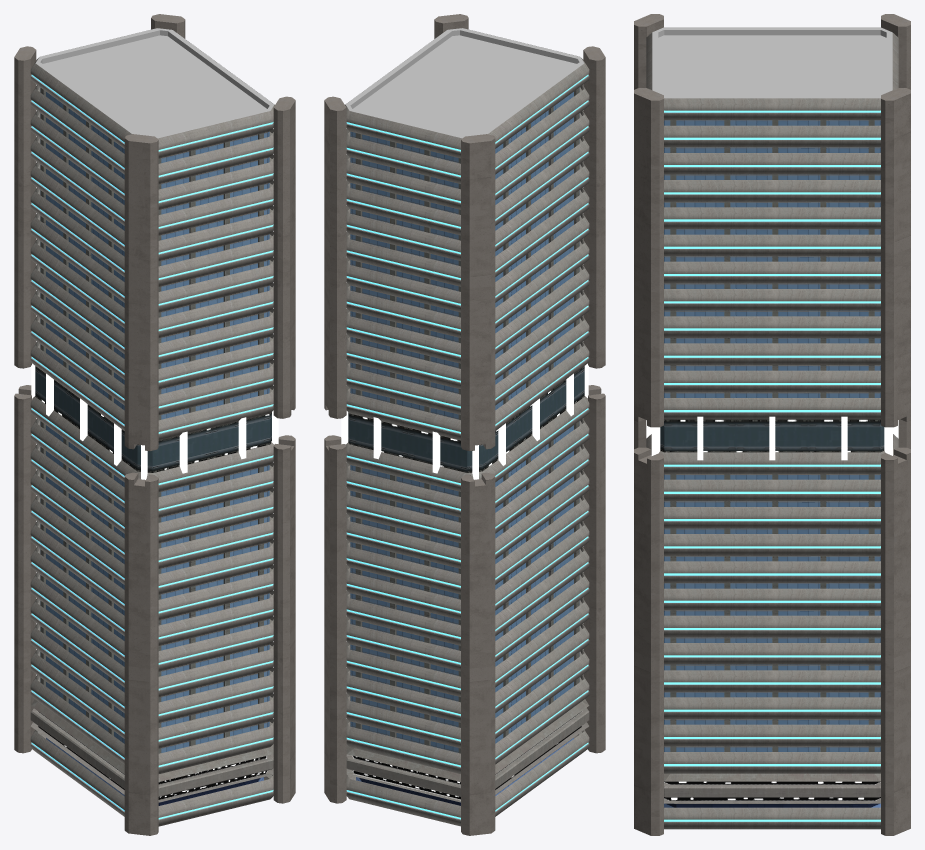
The model's file is ScifyBuilding.fbx.
3 views of the same model, side by side, from view 1: azimuth 30°, elevation 25°; view 2: azimuth 150°, elevation 25°; view 3: azimuth 270°, elevation 25° (orthographic). The views are drawn at different scales.
Visible parts, largest first — view 1: polySurface128, polySurface224, polySurface230, polySurface225, polySurface232, polySurface222, polySurface231, polySurface221, pCube56, pCube59, pCube44, pCube53 (+49 smaller); view 2: polySurface128, polySurface222, polySurface231, polySurface223, polySurface233, polySurface224, polySurface230, polySurface221, pCube44, pCube47, pCube59, pCube62 (+49 smaller); view 3: polySurface128, polySurface225, polySurface223, polySurface232, polySurface233, polySurface221, pCube67, pCube54, polySurface3, pCube44, pCube45, pCube48 (+48 smaller).
Part boxes in pixels (bbox=[...]): polySurface128: bbox=[35, 28, 274, 138]; polySurface224: bbox=[124, 472, 158, 835]; polySurface230: bbox=[124, 134, 158, 451]; polySurface225: bbox=[273, 435, 295, 803]; polySurface232: bbox=[273, 96, 295, 418]; polySurface222: bbox=[14, 385, 36, 753]; polySurface231: bbox=[14, 46, 36, 368]; polySurface221: bbox=[35, 366, 271, 472]; pCube56: bbox=[30, 290, 273, 389]; pCube59: bbox=[30, 213, 273, 312]; pCube44: bbox=[30, 649, 273, 748]; pCube53: bbox=[30, 418, 273, 517]; polySurface128: bbox=[345, 28, 584, 138]; polySurface222: bbox=[461, 472, 495, 835]; polySurface231: bbox=[461, 134, 495, 451]; polySurface223: bbox=[324, 435, 346, 803]; polySurface233: bbox=[324, 96, 346, 418]; polySurface224: bbox=[583, 385, 605, 753]; polySurface230: bbox=[583, 46, 605, 368]; polySurface221: bbox=[348, 366, 584, 472]; pCube44: bbox=[346, 649, 589, 748]; pCube47: bbox=[346, 572, 589, 671]; pCube59: bbox=[346, 213, 589, 312]; pCube62: bbox=[346, 136, 589, 235]; polySurface128: bbox=[652, 27, 892, 98]; polySurface225: bbox=[634, 447, 663, 835]; polySurface223: bbox=[881, 447, 910, 835]; polySurface232: bbox=[634, 88, 663, 427]; polySurface233: bbox=[881, 88, 910, 427]; polySurface221: bbox=[660, 419, 884, 452]; pCube67: bbox=[646, 27, 898, 119]; pCube54: bbox=[646, 434, 898, 474]; polySurface3: bbox=[664, 781, 880, 803]; pCube44: bbox=[664, 724, 880, 746]; pCube45: bbox=[664, 697, 880, 719]; pCube48: bbox=[664, 615, 880, 637].
Size of the model in its own units: 34.13 by 135 by 46.06.
